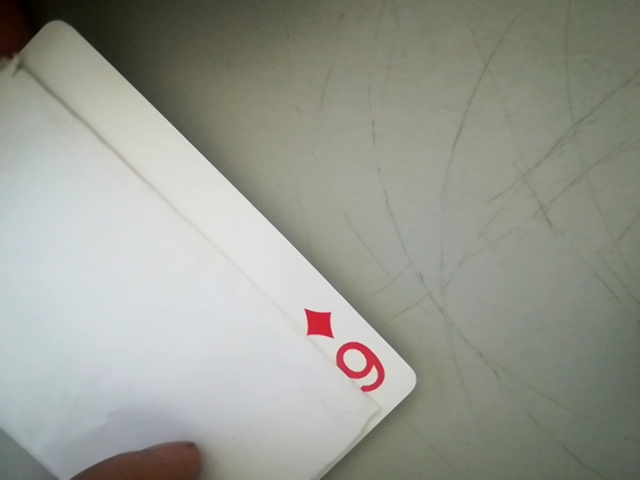fk 6: (293, 303, 404, 405)
